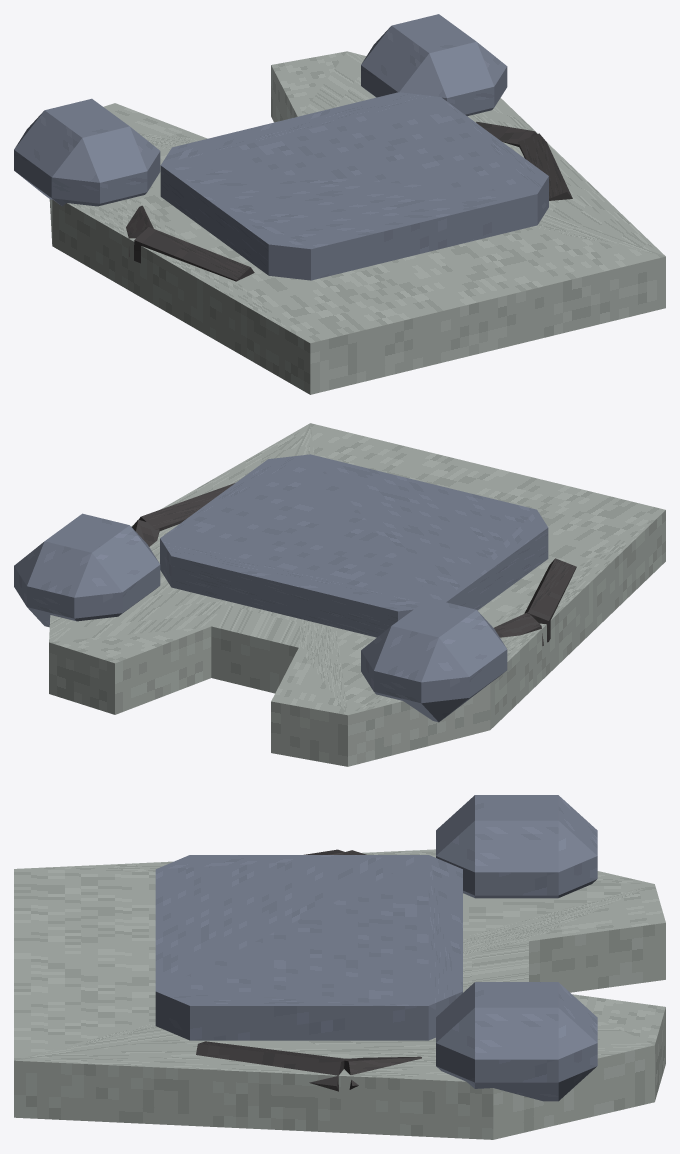
The model's file is football_armor.glb.
3 renders of one model, top to bottom at view 1: azimuth 30°, elevation 25°; view 2: azimuth 150°, elevation 25°; view 3: azimuth 270°, elevation 25°, orthographic. The views are drawn at different scales.
Parts seen in each view (by area): view 1: block_vest body, block_front protection panel, block_shoulder pad (×2), block_adjustment strap 1 (×2), block_adjustment strap 0; view 2: block_vest body, block_front protection panel, block_shoulder pad (×2), block_adjustment strap 1 (×2), block_adjustment strap 0; view 3: block_vest body, block_front protection panel, block_shoulder pad (×2), block_adjustment strap 1, block_adjustment strap 0.
Boxes of the visible parts, bbox=[...] form: block_vest body: bbox=[49, 51, 665, 394]; block_front protection panel: bbox=[160, 92, 548, 280]; block_shoulder pad (×2): bbox=[14, 14, 507, 206]; block_adjustment strap 1 (×2): bbox=[134, 133, 572, 281]; block_adjustment strap 0: bbox=[476, 121, 536, 146]; block_vest body: bbox=[49, 423, 665, 766]; block_front protection panel: bbox=[160, 454, 548, 637]; block_shoulder pad (×2): bbox=[14, 513, 507, 722]; block_adjustment strap 1 (×2): bbox=[139, 483, 576, 642]; block_adjustment strap 0: bbox=[494, 612, 543, 645]; block_vest body: bbox=[14, 849, 665, 1139]; block_front protection panel: bbox=[155, 855, 462, 1040]; block_shoulder pad (×2): bbox=[436, 795, 597, 1101]; block_adjustment strap 1: bbox=[196, 1041, 347, 1091]; block_adjustment strap 0: bbox=[344, 1056, 421, 1089].
Bounding box in the file's own units: 0.4518 × 0.1034 × 0.5069.
1 material, 1 textured.
